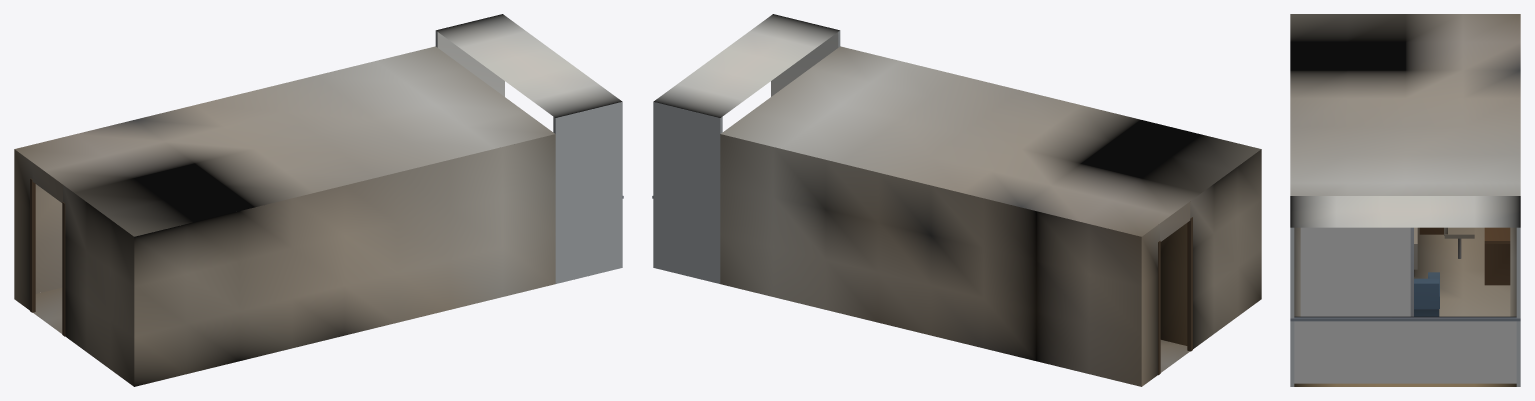
Rendered from kabine_balkon.glb.
3 renders of one model, left to right at view 1: azimuth 30°, elevation 25°; view 2: azimuth 150°, elevation 25°; view 3: azimuth 270°, elevation 25°, orthographic. The views are drawn at different scales.
Visible parts, largest first — view 1: kr_wand, kr_decke, kr_holz, kr_teppich_kabine; view 2: kr_wand, kr_decke, kr_holz_hell, kr_holz, kr_teppich_kabine; view 3: kr_decke, kr_glas, kr_wand, kr_teppich_kabine, kr_metall, kr_holz, kr_stoff, kr_teak.
Boxes of the visible parts, bbox=[...] form: kr_wand: bbox=[14, 14, 622, 386]; kr_decke: bbox=[14, 46, 554, 236]; kr_holz: bbox=[30, 178, 65, 336]; kr_teppich_kabine: bbox=[33, 287, 62, 333]; kr_wand: bbox=[653, 14, 1261, 386]; kr_decke: bbox=[721, 46, 1261, 236]; kr_holz_hell: bbox=[1160, 223, 1187, 345]; kr_holz: bbox=[1158, 217, 1192, 375]; kr_teppich_kabine: bbox=[1160, 340, 1189, 372]; kr_decke: bbox=[1290, 14, 1520, 195]; kr_glas: bbox=[1294, 227, 1516, 383]; kr_wand: bbox=[1290, 196, 1520, 386]; kr_teppich_kabine: bbox=[1414, 227, 1510, 316]; kr_metall: bbox=[1290, 227, 1520, 321]; kr_holz: bbox=[1419, 227, 1510, 285]; kr_stoff: bbox=[1414, 227, 1474, 316]; kr_teak: bbox=[1294, 383, 1516, 386].
Size of the model in its own units: 8.03 by 2.6 by 3.4.
